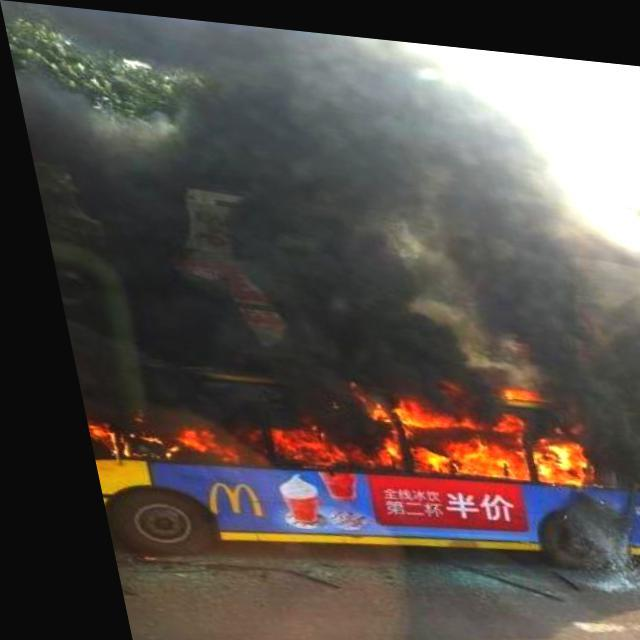Fire: (62, 340, 592, 486)
